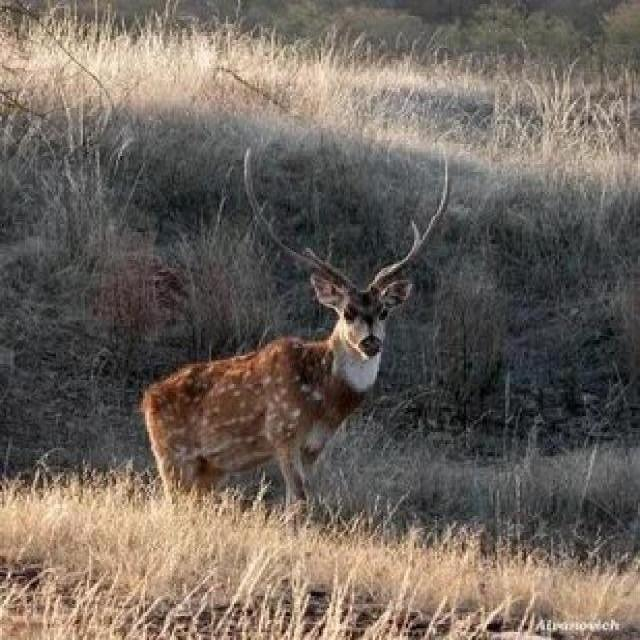deer: (108, 160, 484, 516)
